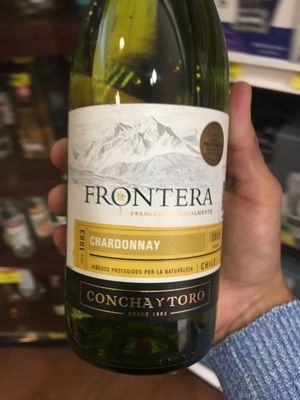frontera chardonnay: (58, 10, 245, 367)
